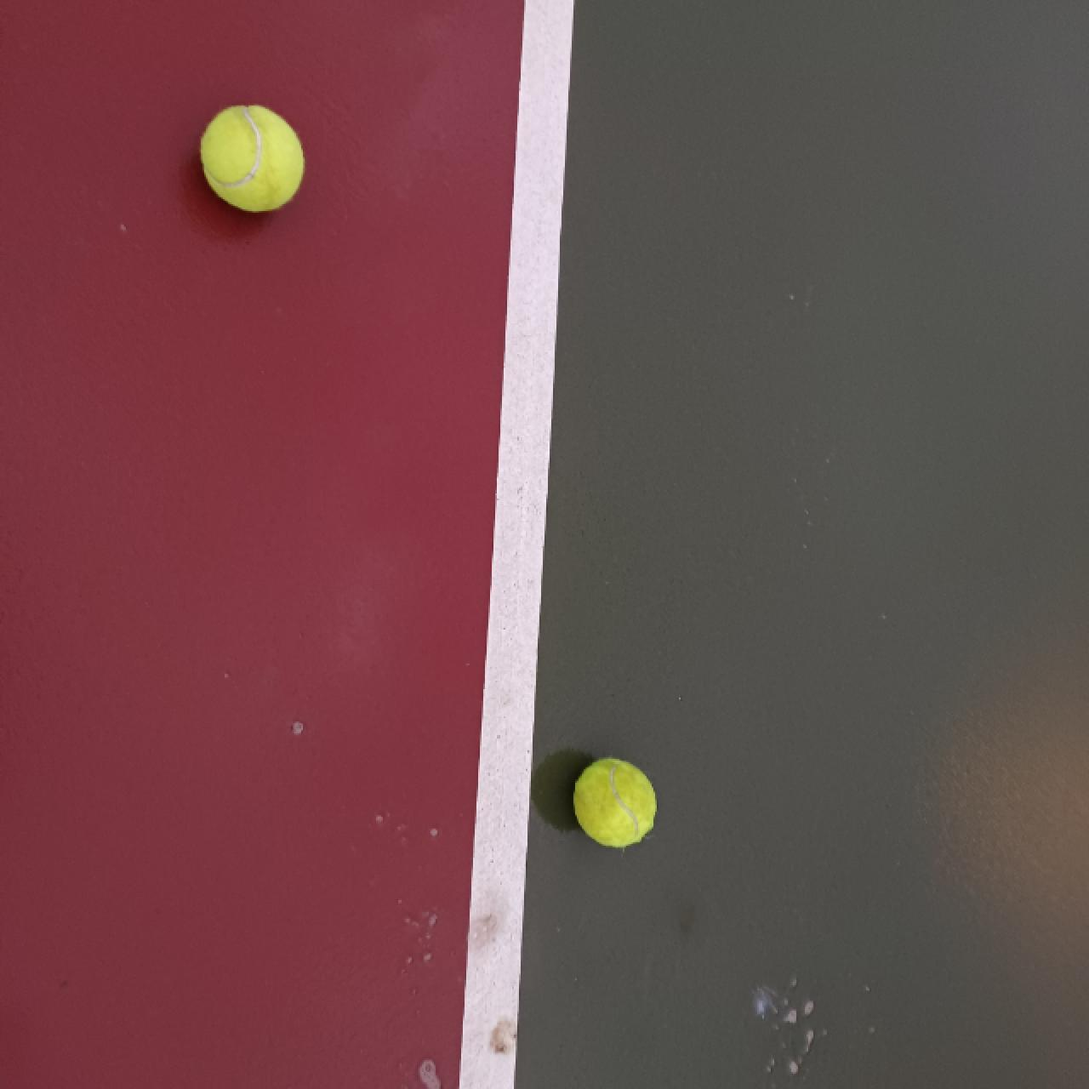tennis-ball: (197, 100, 308, 212)
